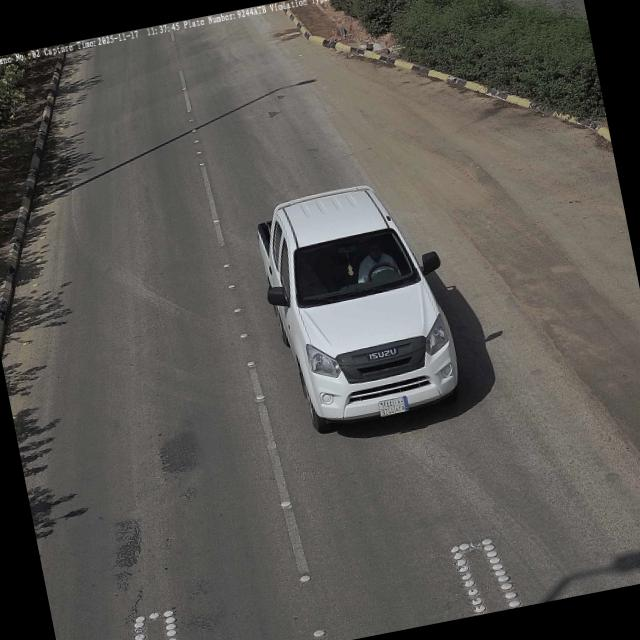person_without_seatbelt: (351, 237, 400, 284)
